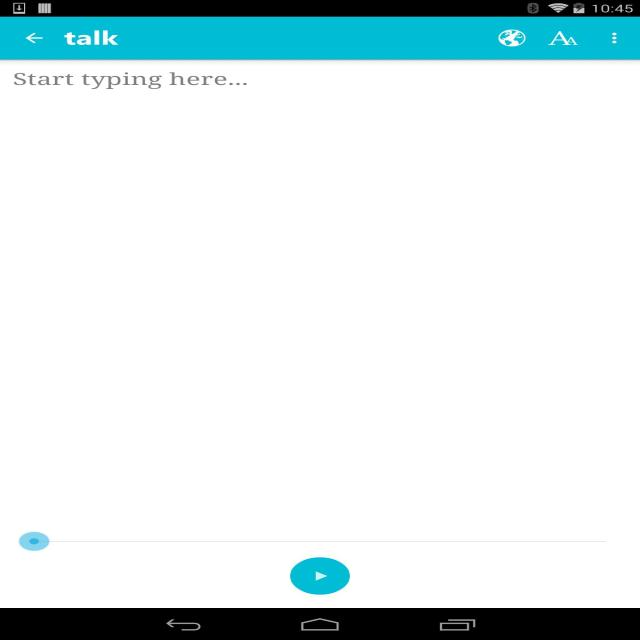button: (289, 556, 351, 597), (488, 26, 537, 51), (542, 26, 590, 51), (18, 27, 52, 52), (603, 26, 634, 50)
heading: (59, 26, 128, 51)
text: (11, 71, 257, 92)
